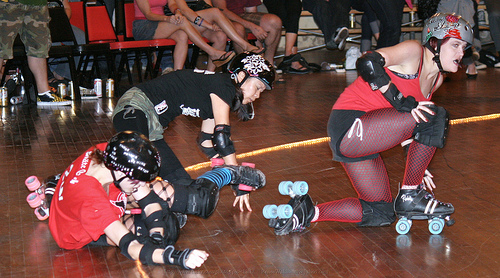helmet: (114, 131, 165, 179), (423, 10, 475, 44), (232, 58, 276, 89)
